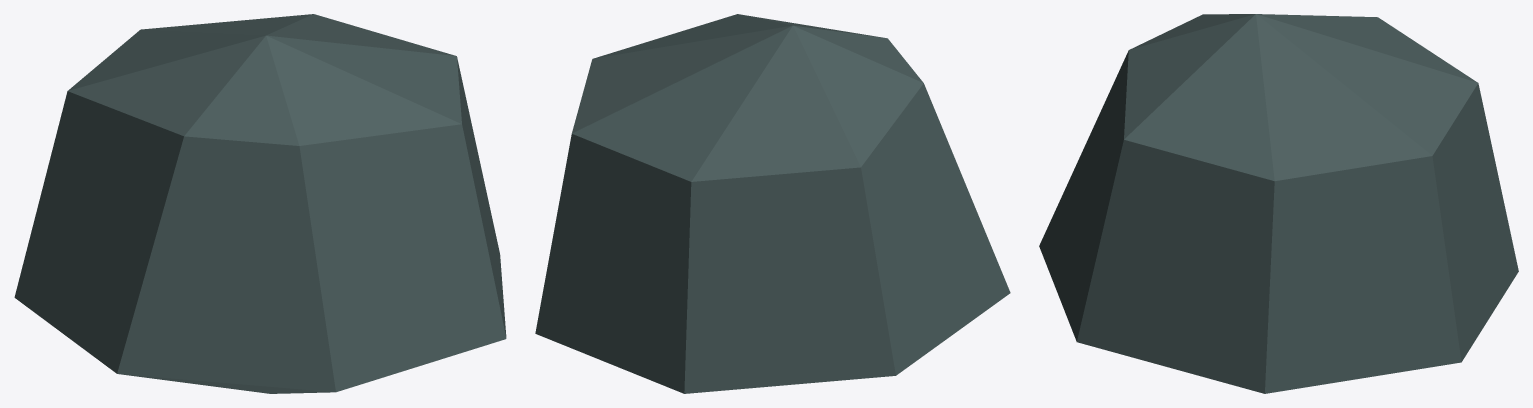
File: stone.FBX
The picture shows the model from 3 angles, left to right: view 1: azimuth 30°, elevation 25°; view 2: azimuth 150°, elevation 25°; view 3: azimuth 270°, elevation 25°; orthographic projection. The views are drawn at different scales.
Parts seen in each view (by area): view 1: Object029; view 2: Object029; view 3: Object029.
Part boxes in pixels (bbox=[...]): Object029: bbox=[14, 14, 506, 393]; Object029: bbox=[535, 14, 1010, 393]; Object029: bbox=[1039, 14, 1518, 393].
Size of the model in its own units: 40.11 by 33.02 by 40.71.
